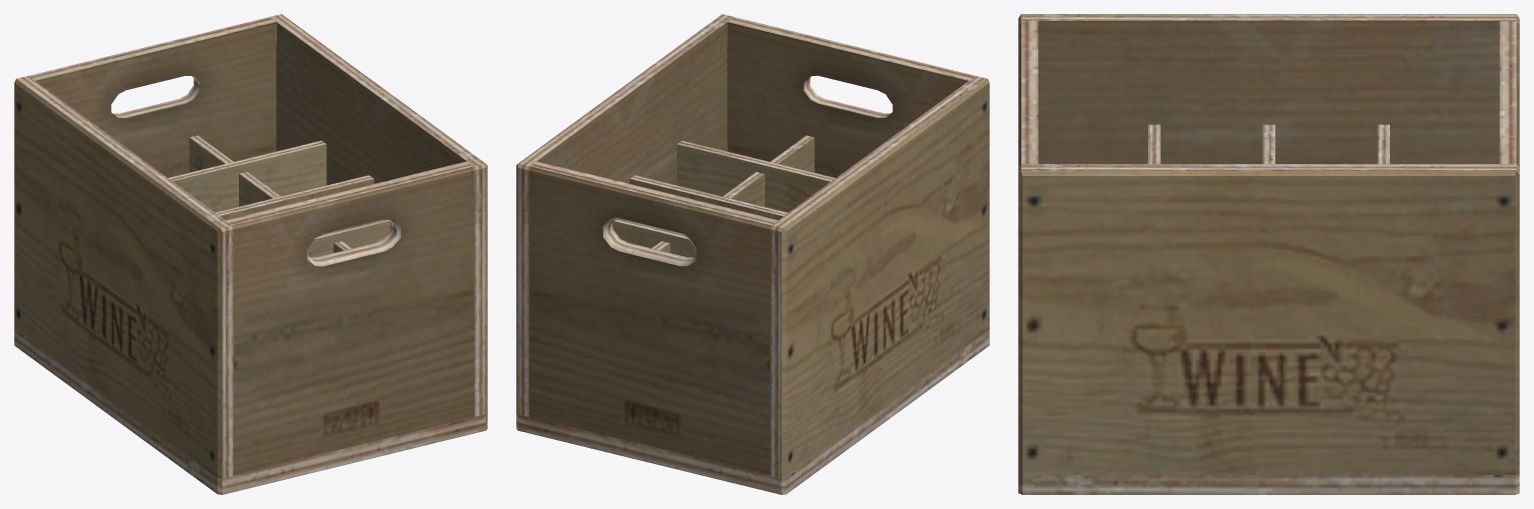
File: com_wine_crate_open_lod0.glb
3 renders of one model, left to right at view 1: azimuth 30°, elevation 25°; view 2: azimuth 150°, elevation 25°; view 3: azimuth 270°, elevation 25°, orthographic. The views are drawn at different scales.
Visible parts, largest first — view 1: surf0; view 2: surf0; view 3: surf0.
Boxes of the visible parts, x1=… form: surf0: x1=14, y1=14, x2=487, y2=494; surf0: x1=516, y1=14, x2=989, y2=494; surf0: x1=1018, y1=14, x2=1519, y2=494.
Size of the model in its own units: 18.11 by 17.06 by 24.02.
